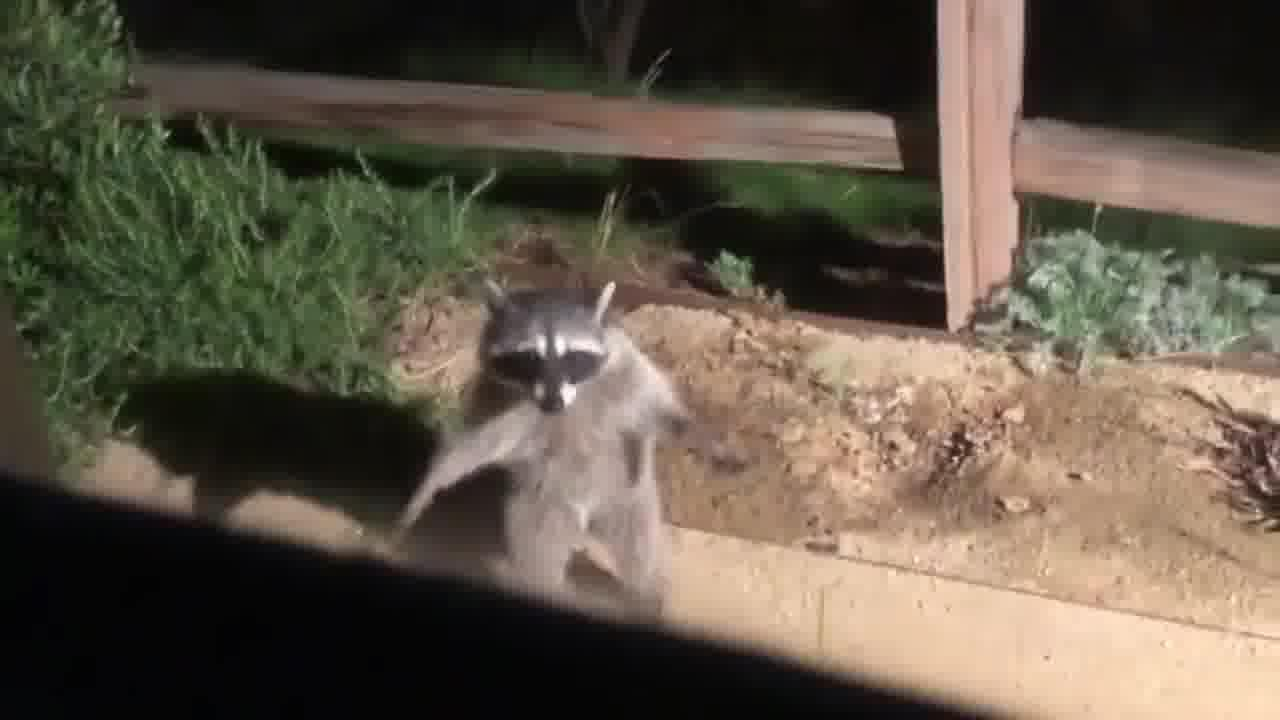raccoon: (369, 266, 757, 647)
